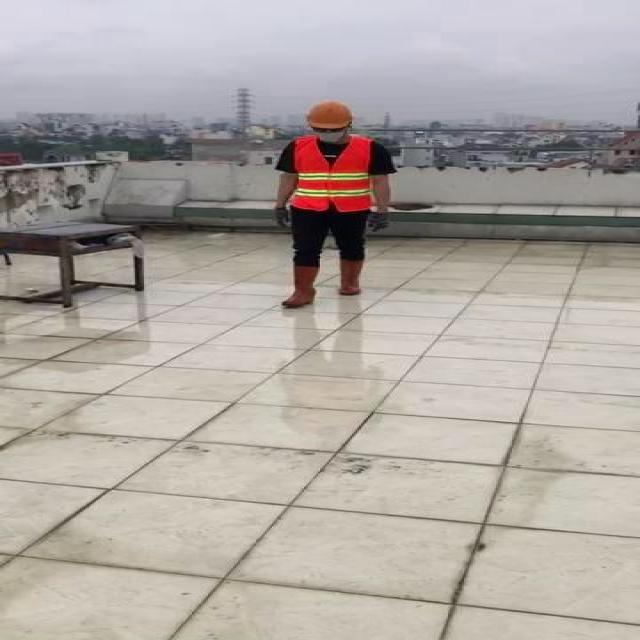boots: (283, 263, 320, 307), (338, 258, 368, 296)
face_mask: (312, 124, 348, 142)
glasses: (310, 124, 350, 134)
hand_glove: (365, 213, 391, 233), (276, 203, 292, 230)
head_helmet: (306, 100, 356, 130)
person: (268, 100, 394, 311)
vest: (292, 136, 375, 212)
